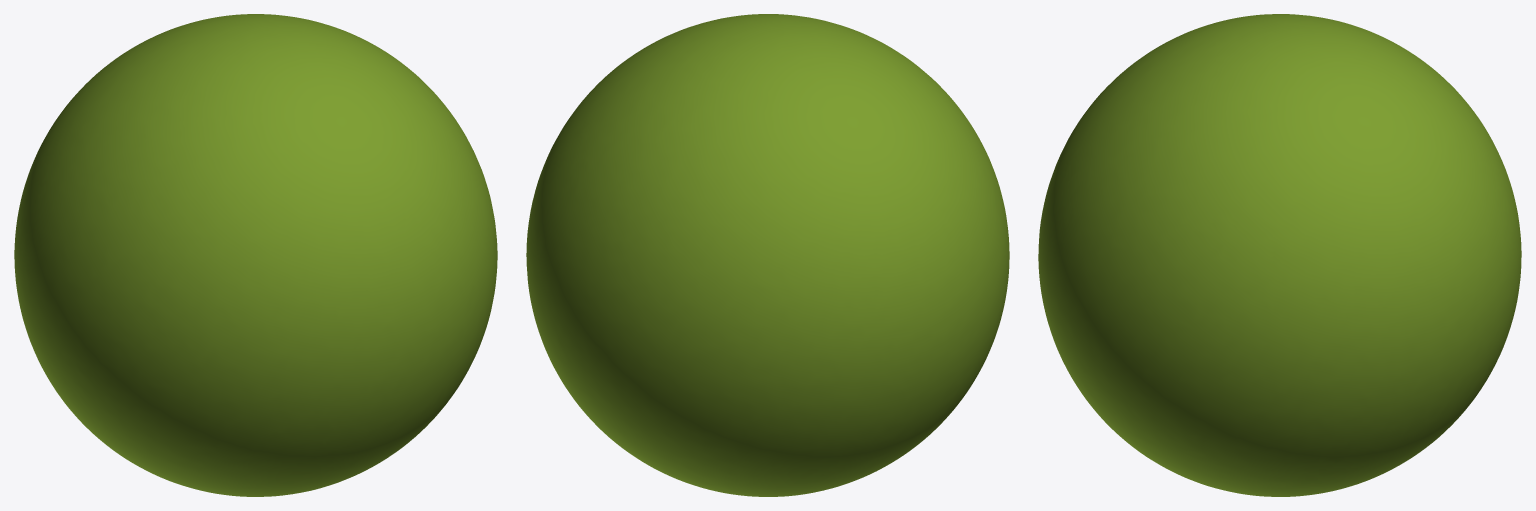
The picture shows the model from 3 angles, left to right: view 1: azimuth 30°, elevation 25°; view 2: azimuth 150°, elevation 25°; view 3: azimuth 270°, elevation 25°; orthographic projection.
Visible parts, largest first — view 1: Icosphere_0; view 2: Icosphere_0; view 3: Icosphere_0.
Boxes of the visible parts, <box> form: Icosphere_0: <box>14,14,497,496</box>; Icosphere_0: <box>526,14,1009,496</box>; Icosphere_0: <box>1038,14,1521,496</box>.
Size of the model in its own units: 2 by 2 by 2.
